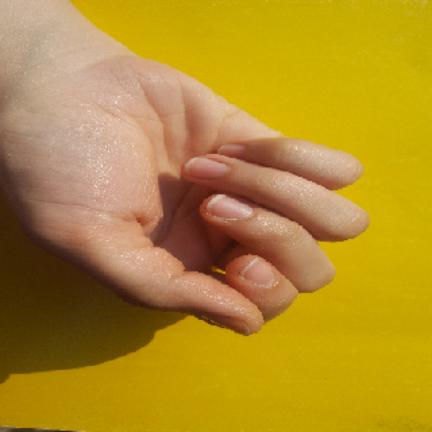Nail: (240, 256, 275, 289), (207, 195, 253, 219), (185, 158, 230, 179), (218, 144, 246, 157)
